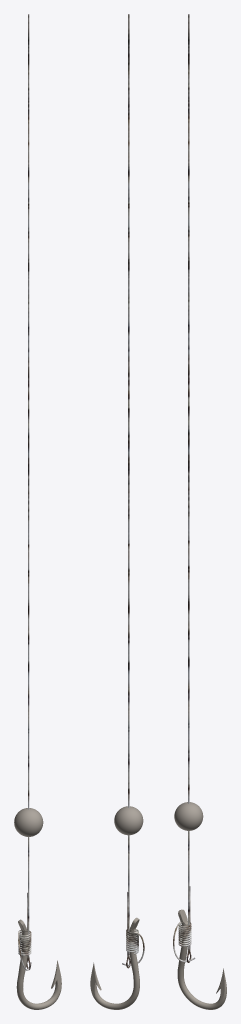
Rendered from udica.fbx.
3 views of the same model, side by side, from view 1: azimuth 30°, elevation 25°; view 2: azimuth 150°, elevation 25°; view 3: azimuth 330°, elevation 25° (orthographic).
Visible parts, largest first — view 1: udica (×4); view 2: udica (×4); view 3: udica (×4).
Boxes of the visible parts, box(x1,y1,x2,y2) form: udica (×4): box(14, 14, 61, 1009); udica (×4): box(90, 14, 143, 1009); udica (×4): box(174, 14, 226, 1009).
Bounding box in the file's own units: 19.03 × 379 × 10.
3 materials, 1 textured.
